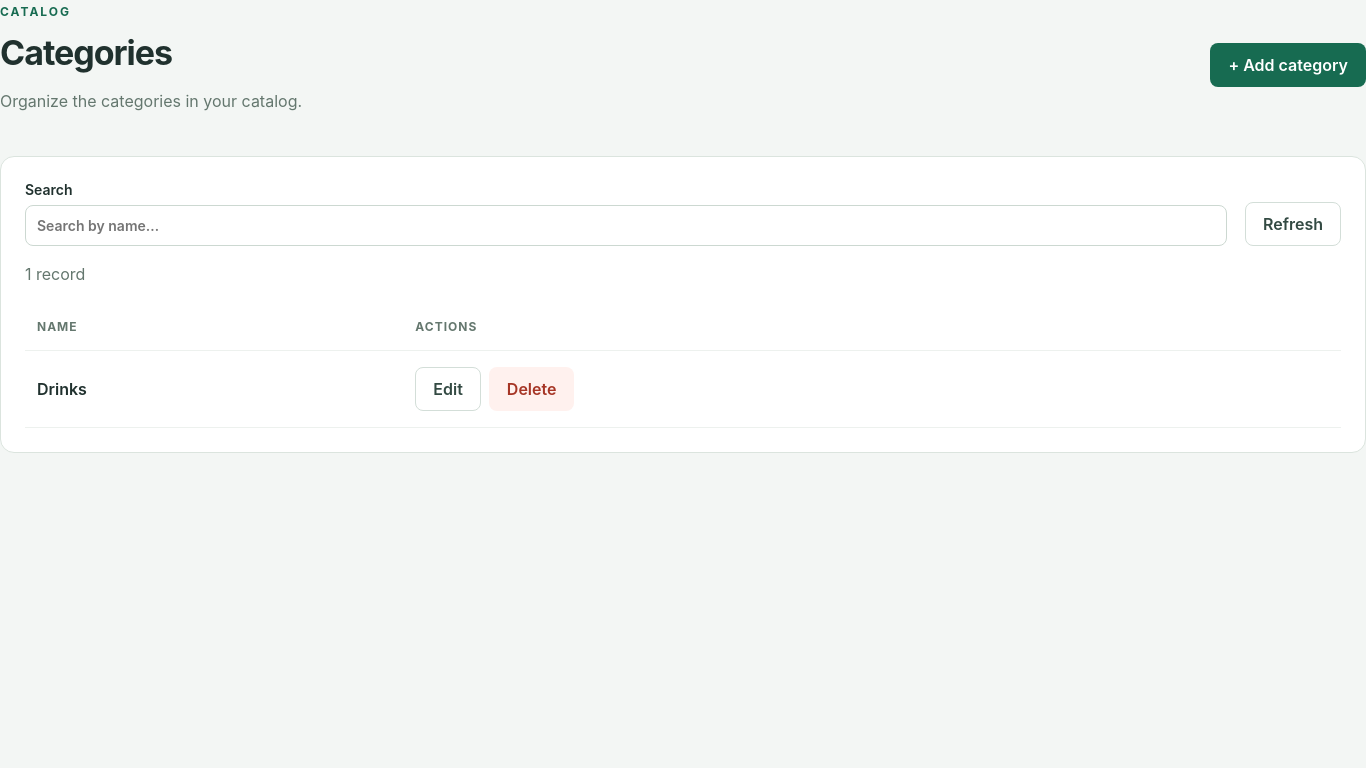
Test case: category editor opens over its catalog and Escape closes it
Check: the text "Drinks" is shown, box [25,351,403,428]
Click the button "+ Add category" at [1288, 65], box [1210,43,1365,87]
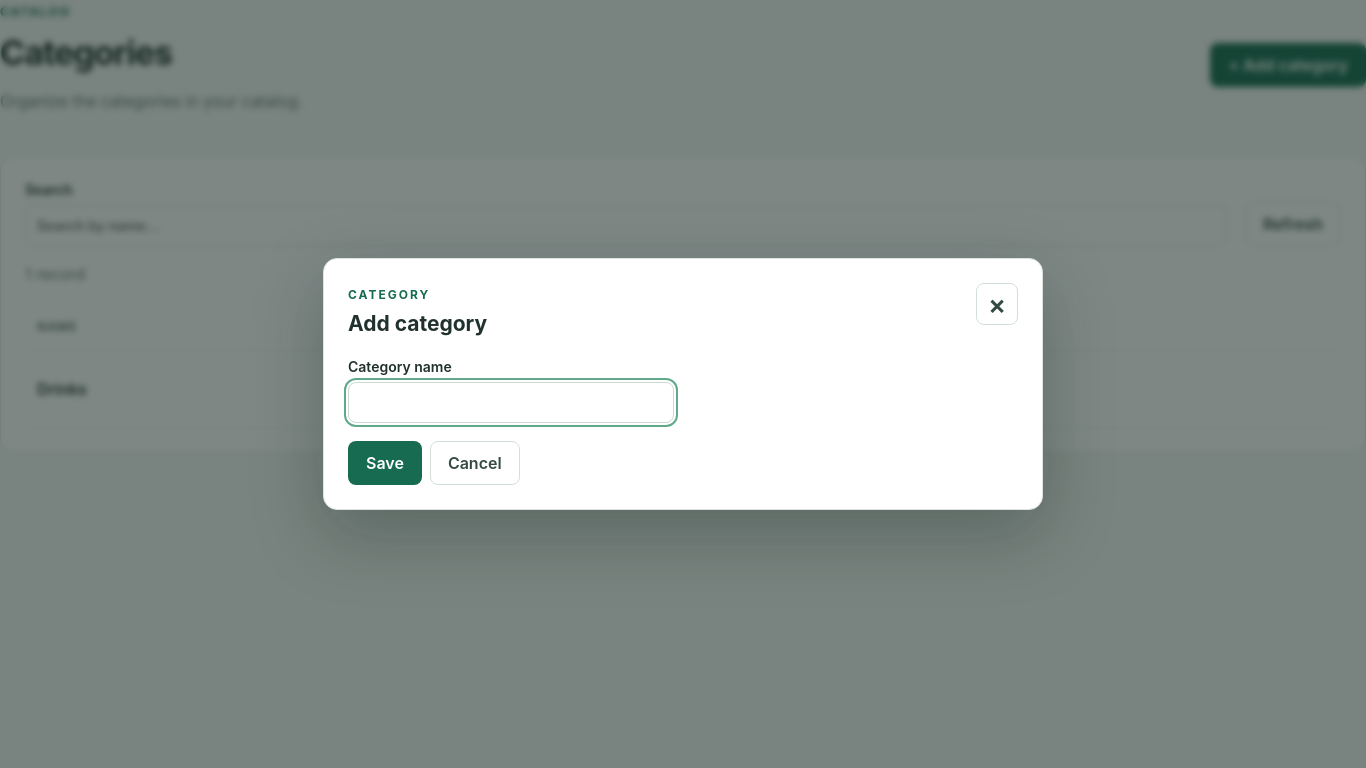
Check: the text "Drinks" is shown, box [25,351,403,428]
Check: the dialog "Add category" is shown, box [323,258,1043,510]
Press Escape
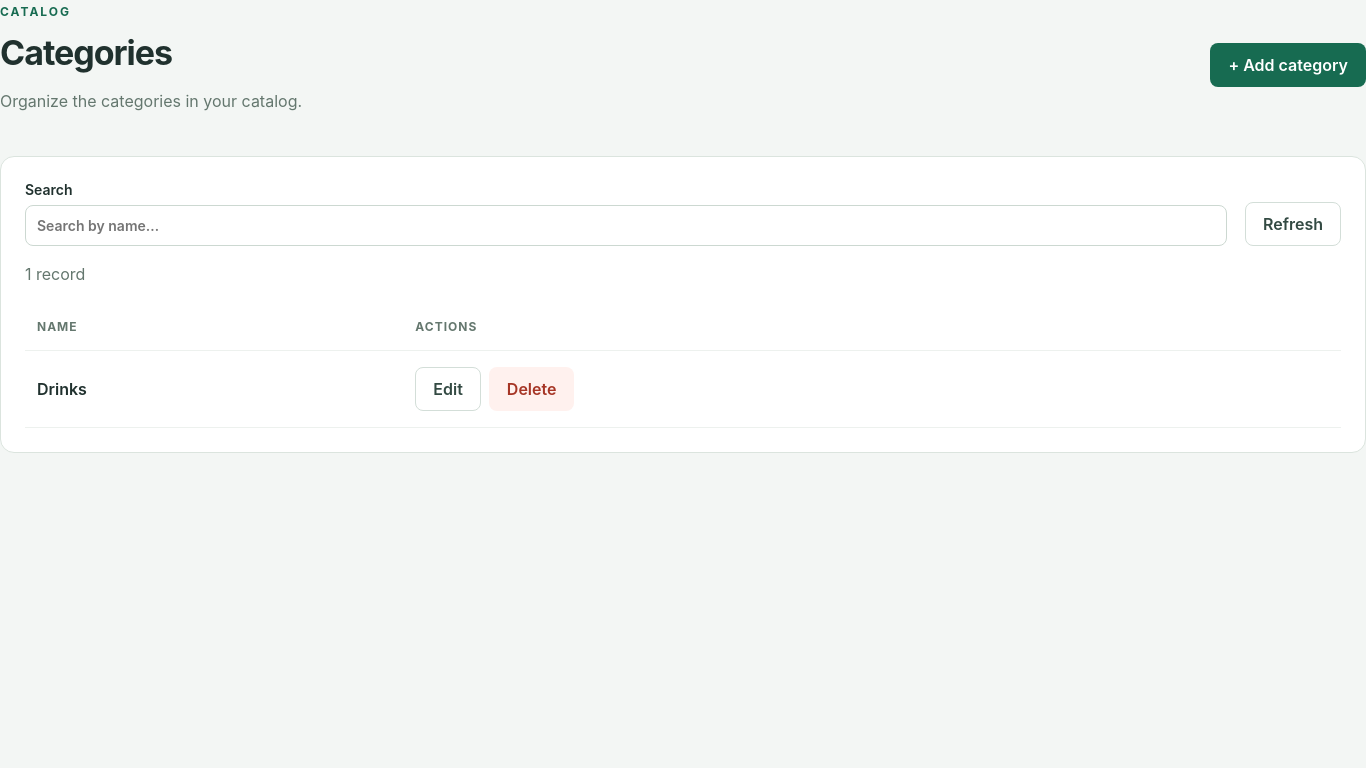
Check: the dialog is gone
